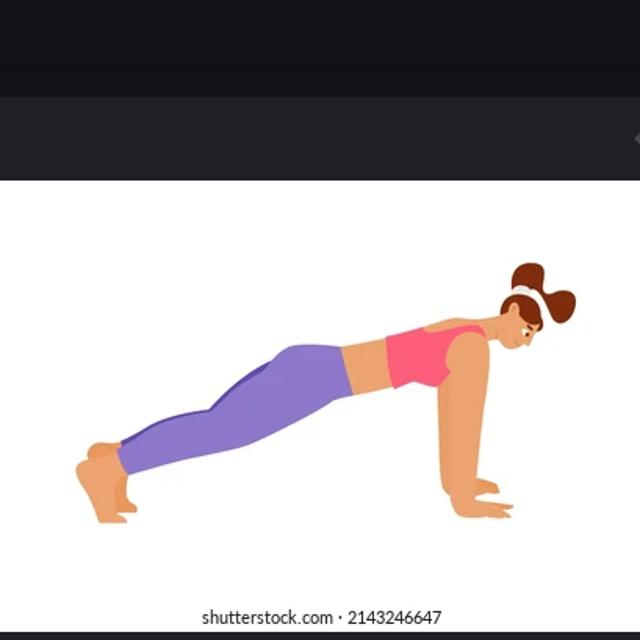Plank_Pose: (66, 254, 593, 532)
